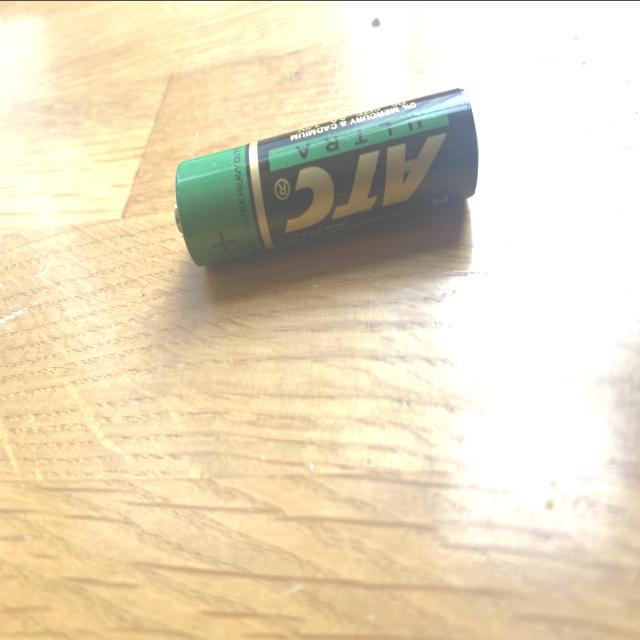AA: (172, 86, 478, 268)
